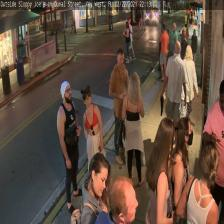person: (56, 81, 84, 214), (175, 140, 219, 224), (145, 116, 176, 224), (202, 79, 224, 220), (80, 85, 106, 191), (168, 117, 194, 223), (121, 72, 144, 187), (108, 48, 129, 164), (161, 42, 186, 138), (80, 153, 111, 223), (95, 175, 139, 224), (181, 45, 198, 132), (159, 24, 169, 80), (124, 19, 136, 59), (180, 26, 188, 72), (123, 21, 131, 63), (171, 21, 177, 75), (162, 28, 169, 65), (190, 29, 197, 64), (184, 24, 189, 45)
